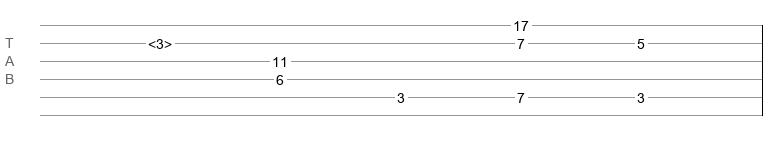11: (272, 54, 288, 64)
17: (513, 18, 529, 28)
3: (397, 90, 405, 100), (637, 90, 645, 100)
5: (637, 36, 645, 46)
6: (276, 72, 284, 82)
7: (517, 90, 525, 100), (517, 36, 525, 46)
harmonic: (148, 36, 172, 46)
